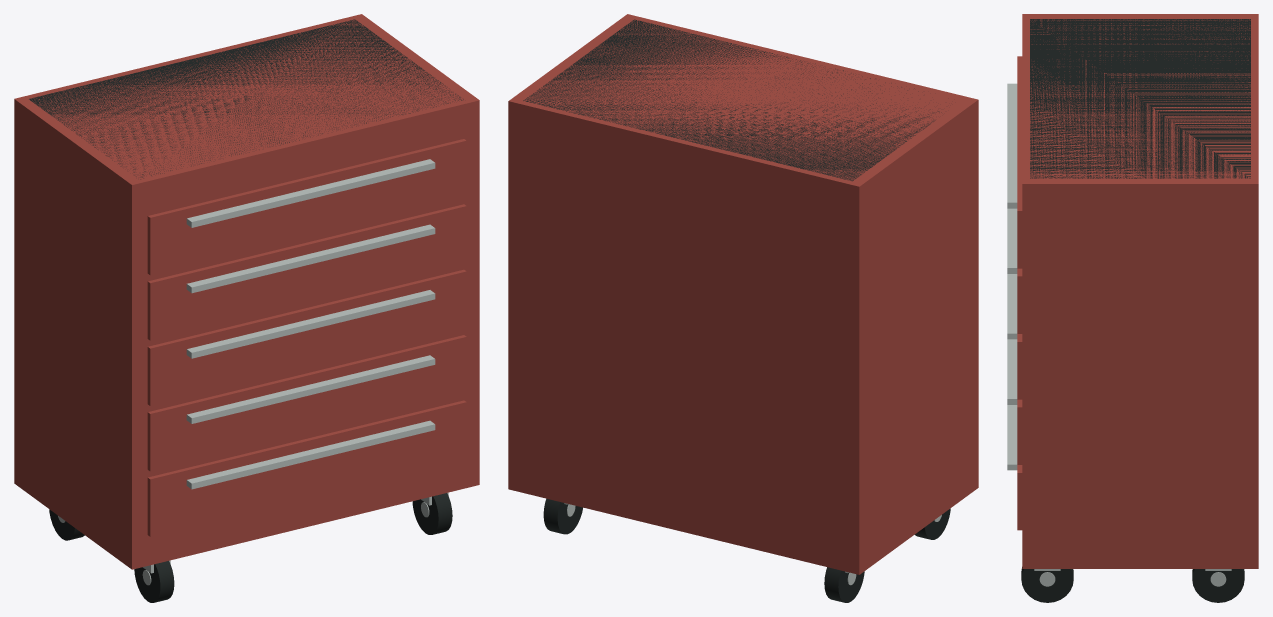
File: toolbox.glb
The picture shows the model from 3 angles, left to right: view 1: azimuth 30°, elevation 25°; view 2: azimuth 150°, elevation 25°; view 3: azimuth 270°, elevation 25°; orthographic projection.
Parts seen in each view (by area): view 1: Case, DrawerFront (×5), TopMat, DrawerPull (×5), RubberWheel (×2); view 2: Case, TopMat, RubberWheel (×2); view 3: Case, TopMat, DrawerPull (×5), DrawerFront (×5), RubberWheel (×2).
Part boxes in pixels (bbox=[...]): Case: bbox=[14, 14, 479, 569]; DrawerFront (×5): bbox=[147, 139, 466, 536]; TopMat: bbox=[29, 19, 463, 179]; DrawerPull (×5): bbox=[186, 159, 435, 489]; RubberWheel (×2): bbox=[134, 493, 452, 602]; Case: bbox=[508, 14, 978, 574]; TopMat: bbox=[523, 19, 941, 181]; RubberWheel (×2): bbox=[543, 498, 864, 602]; Case: bbox=[1022, 14, 1258, 568]; TopMat: bbox=[1030, 19, 1250, 178]; DrawerPull (×5): bbox=[1007, 83, 1017, 470]; DrawerFront (×5): bbox=[1017, 56, 1022, 530]; RubberWheel (×2): bbox=[1021, 567, 1244, 602].
Bounding box in the file's own units: 0.8 × 0.95 × 0.5.
